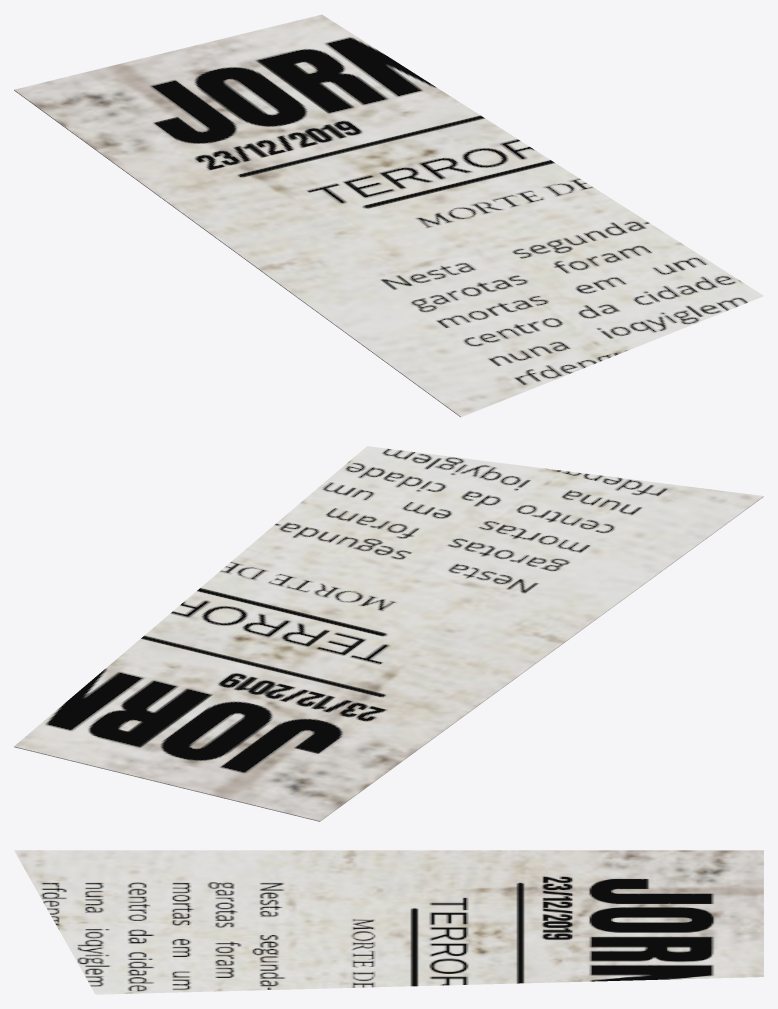
Rendered from cellfracture5.glb.
The picture shows the model from 3 angles, top to bottom: view 1: azimuth 30°, elevation 25°; view 2: azimuth 150°, elevation 25°; view 3: azimuth 270°, elevation 25°; orthographic projection. The views are drawn at different scales.
Parts seen in each view (by area): view 1: Plane.005; view 2: Plane.005; view 3: Plane.005.
Part boxes in pixels (x1=…): Plane.005: x1=14, y1=14, x2=763, y2=417; Plane.005: x1=14, y1=446, x2=763, y2=821; Plane.005: x1=14, y1=850, x2=763, y2=994.
Size of the model in its own units: 0.4763 by 0.001 by 1.05.
Materials: 1 (1 with a texture image).
